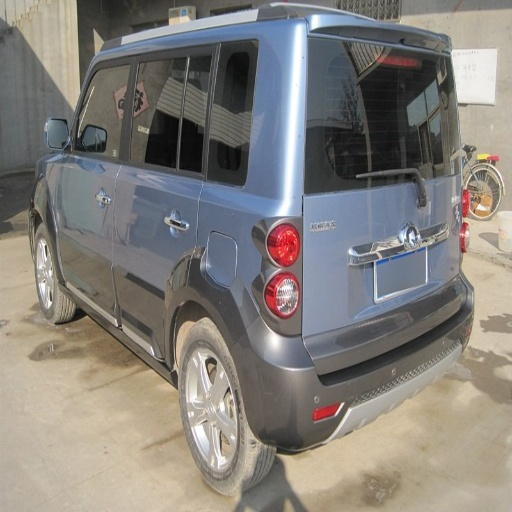back_bumper: (241, 319, 437, 454)
back_glass: (223, 46, 259, 106)
back_left_door: (115, 63, 237, 345)
tailgate: (349, 262, 425, 336), (382, 198, 436, 261)
trunk: (288, 179, 454, 367)
